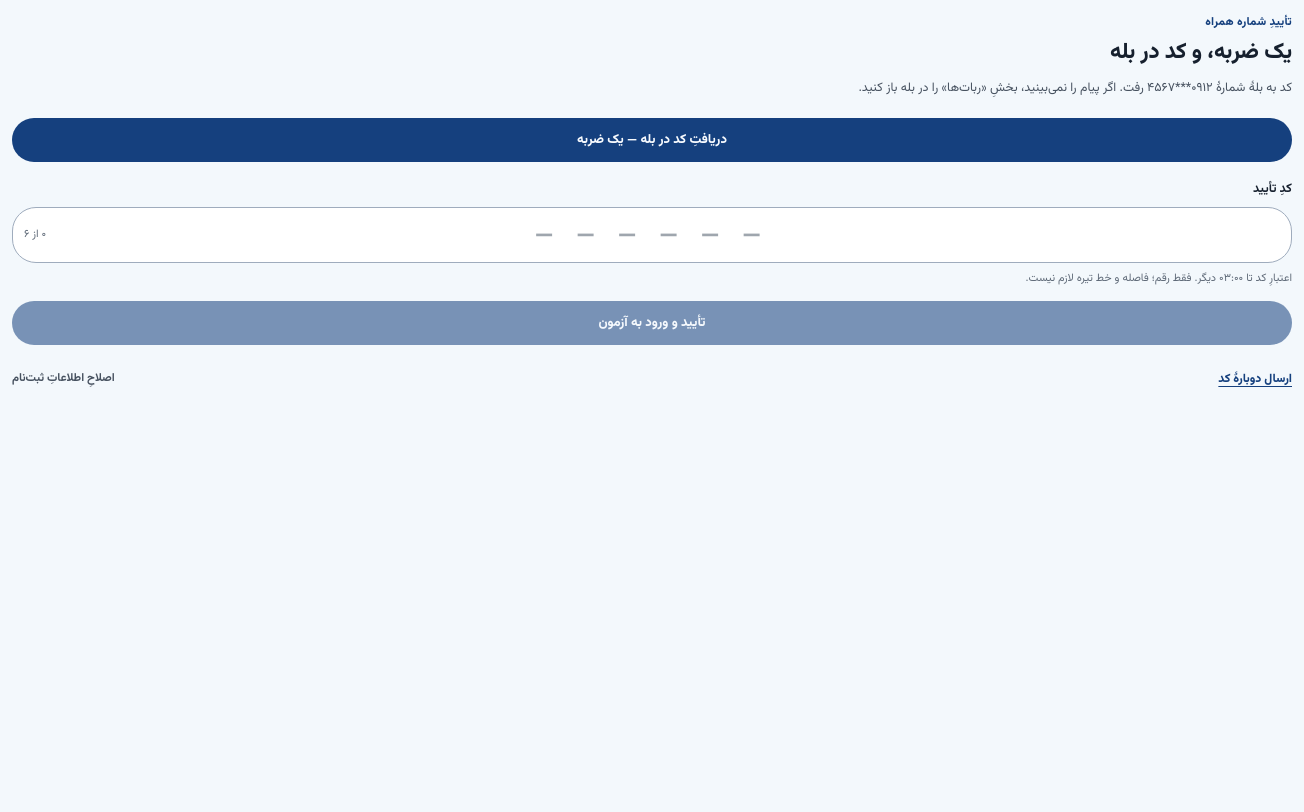
Test: OtpStep › کدِ نادرست ⇒ پیامِ فیلد و پاک‌شدنِ ورودی
Type "999999" into the field labelled "کدِ تأیید" at (652, 235), box [12, 207, 1292, 263]
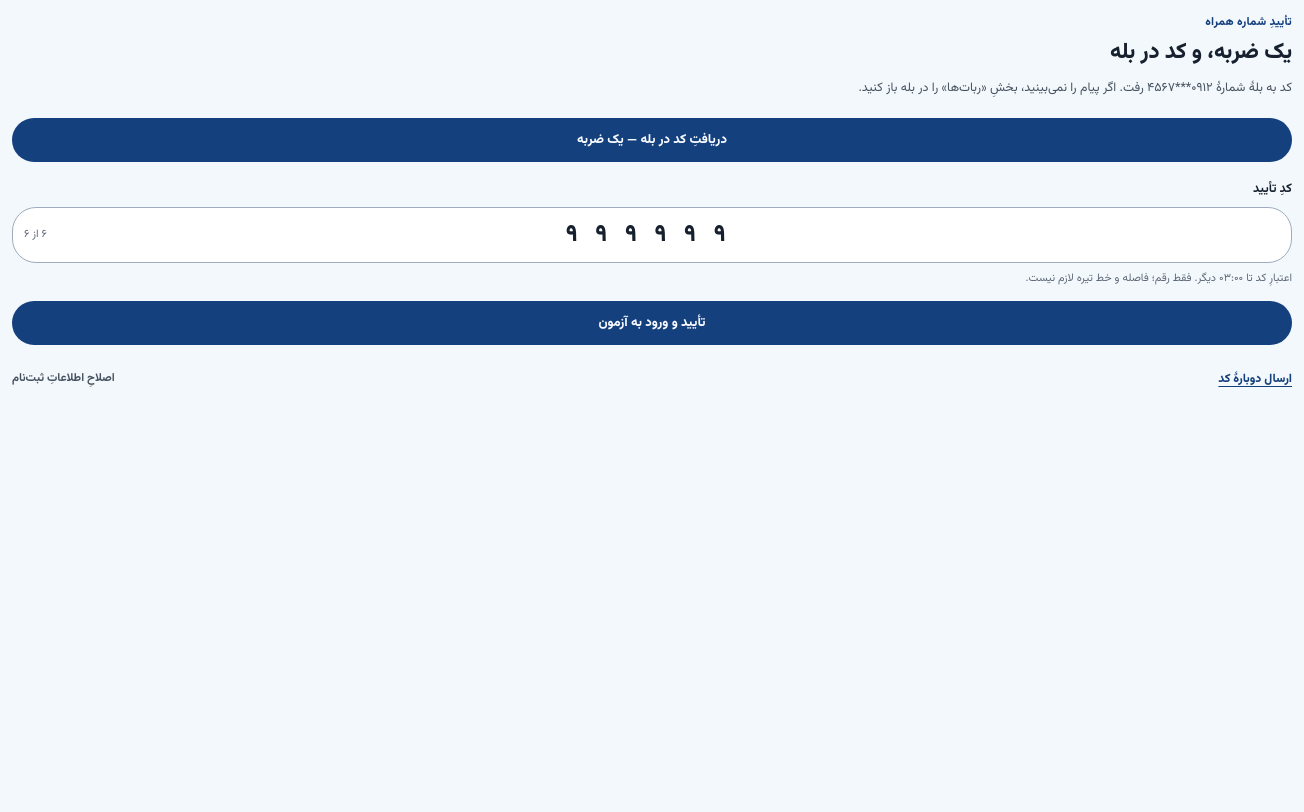
Click the button "تأیید و ورود به آزمون" at (652, 323), box [12, 301, 1292, 345]
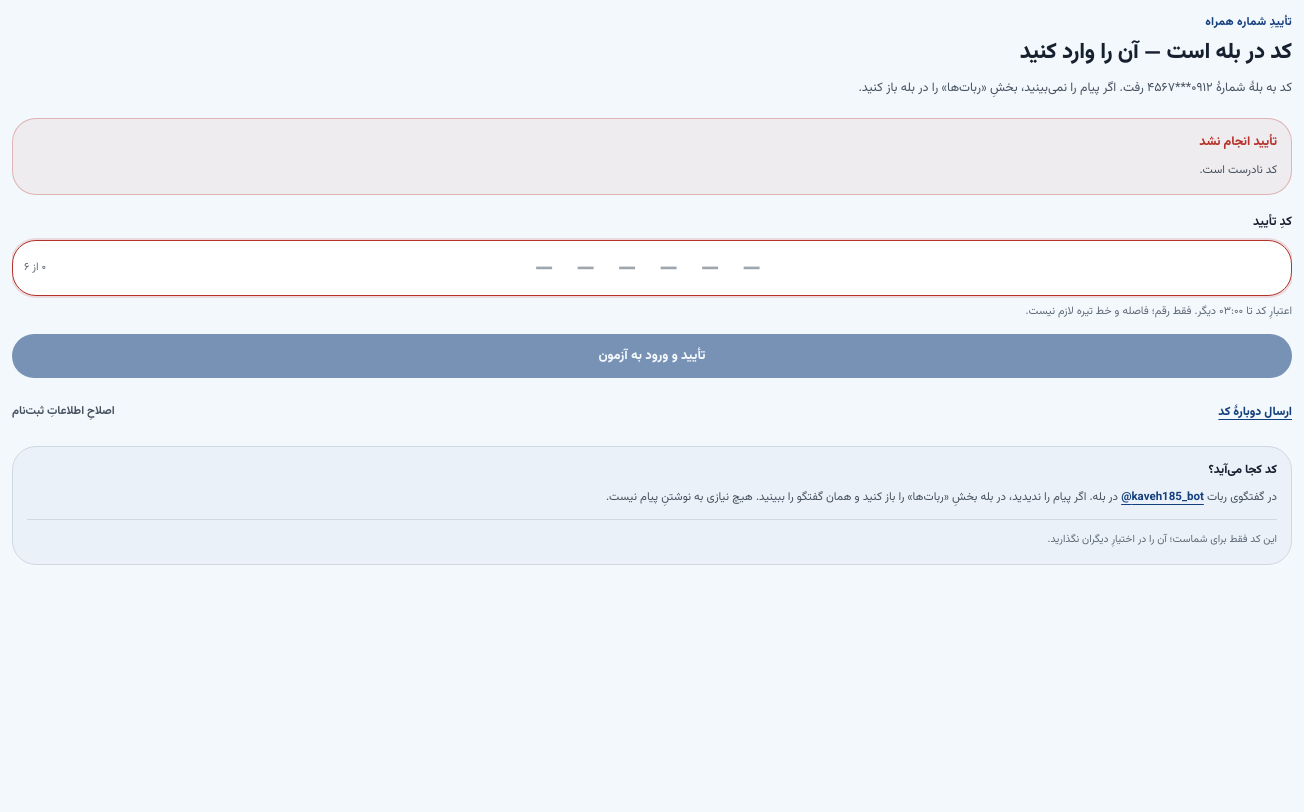
Result: the text "کد نادرست است." is shown at [1200, 161, 1277, 179]
Result: the field labelled "کدِ تأیید" is empty at [12, 240, 1292, 296]
